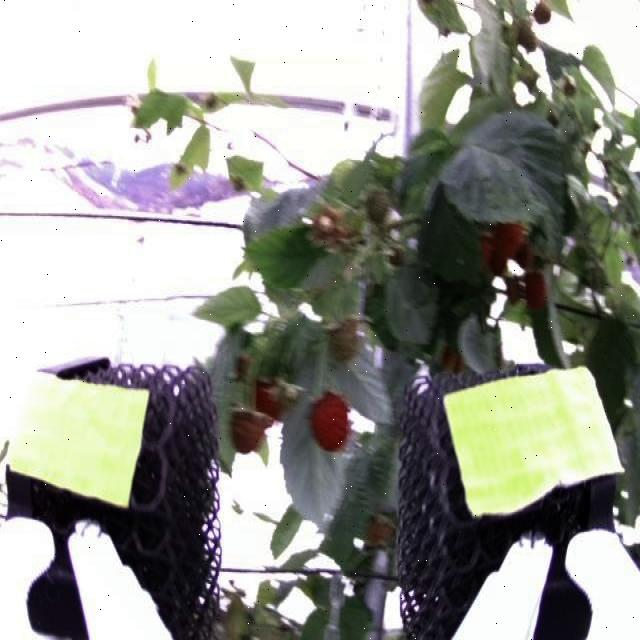Riped berries: (475, 210, 524, 270), (311, 386, 354, 453), (250, 370, 288, 421), (529, 275, 557, 317)
